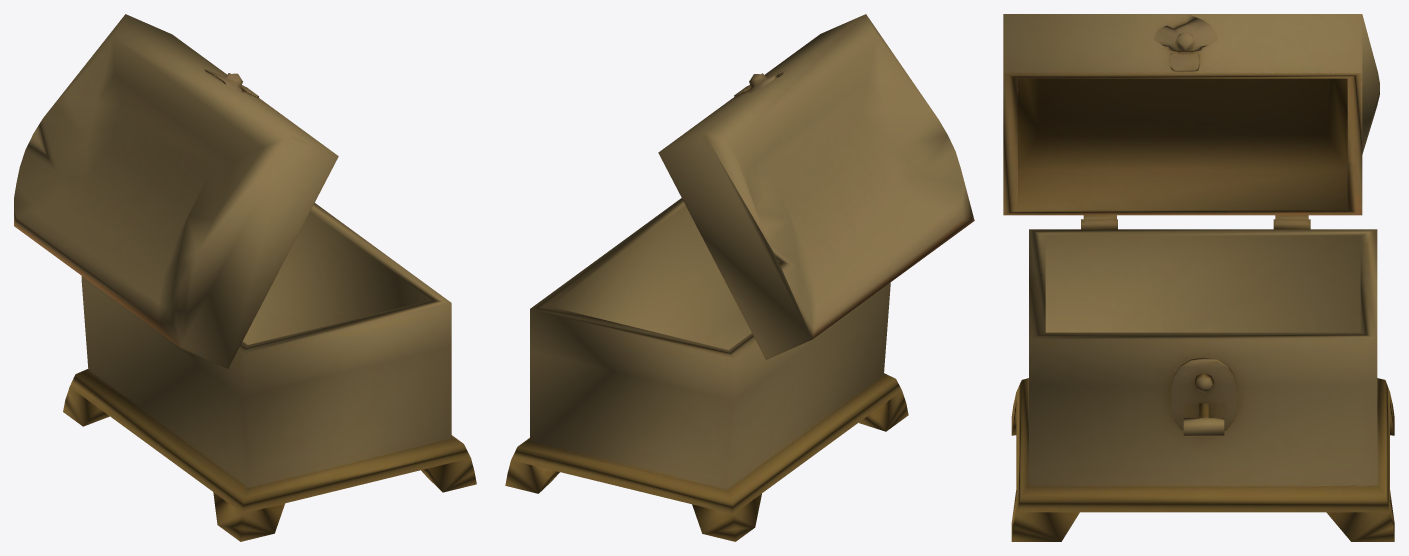
The model's file is Prop_MusicBox_Open.glb.
3 views of the same model, side by side, from view 1: azimuth 30°, elevation 25°; view 2: azimuth 150°, elevation 25°; view 3: azimuth 270°, elevation 25° (orthographic). The views are drawn at different scales.
Parts seen in each view (by area): view 1: tripo_node_e2d13f4f-3349-4180-8941-cc6127632e02; view 2: tripo_node_e2d13f4f-3349-4180-8941-cc6127632e02; view 3: tripo_node_e2d13f4f-3349-4180-8941-cc6127632e02.
Part boxes in pixels (<box>): tripo_node_e2d13f4f-3349-4180-8941-cc6127632e02: <box>14,14,476,541</box>; tripo_node_e2d13f4f-3349-4180-8941-cc6127632e02: <box>505,14,974,541</box>; tripo_node_e2d13f4f-3349-4180-8941-cc6127632e02: <box>1003,14,1394,541</box>.
Size of the model in its own units: 0.3884 by 0.45 by 0.3725.
Materials: 1 (1 with a texture image).
